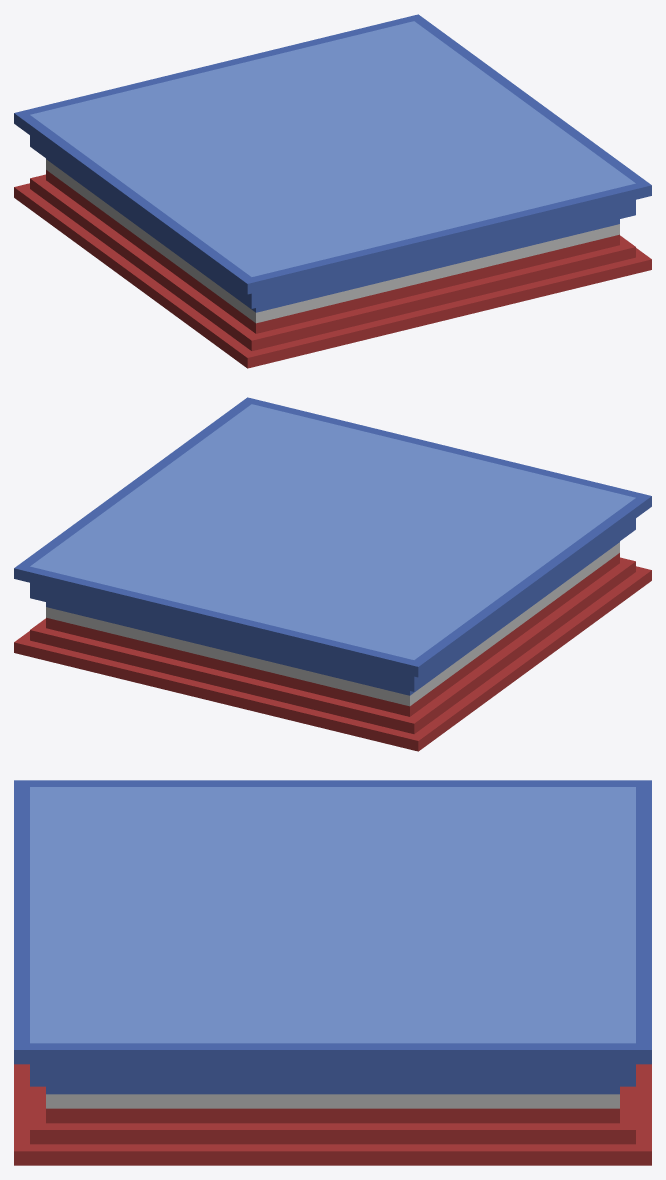
Rendered from building_top.glb.
3 renders of one model, top to bottom at view 1: azimuth 30°, elevation 25°; view 2: azimuth 150°, elevation 25°; view 3: azimuth 270°, elevation 25°, orthographic. The views are drawn at different scales.
Visible parts, largest first — view 1: ObjObject; view 2: ObjObject; view 3: ObjObject.
Boxes of the visible parts, x1,y1,x2,y2 form: ObjObject: (14, 14, 651, 368); ObjObject: (14, 397, 651, 751); ObjObject: (14, 780, 651, 1165).
Size of the model in its own units: 4 by 0.8 by 4.
Materials: 1 (1 with a texture image).
